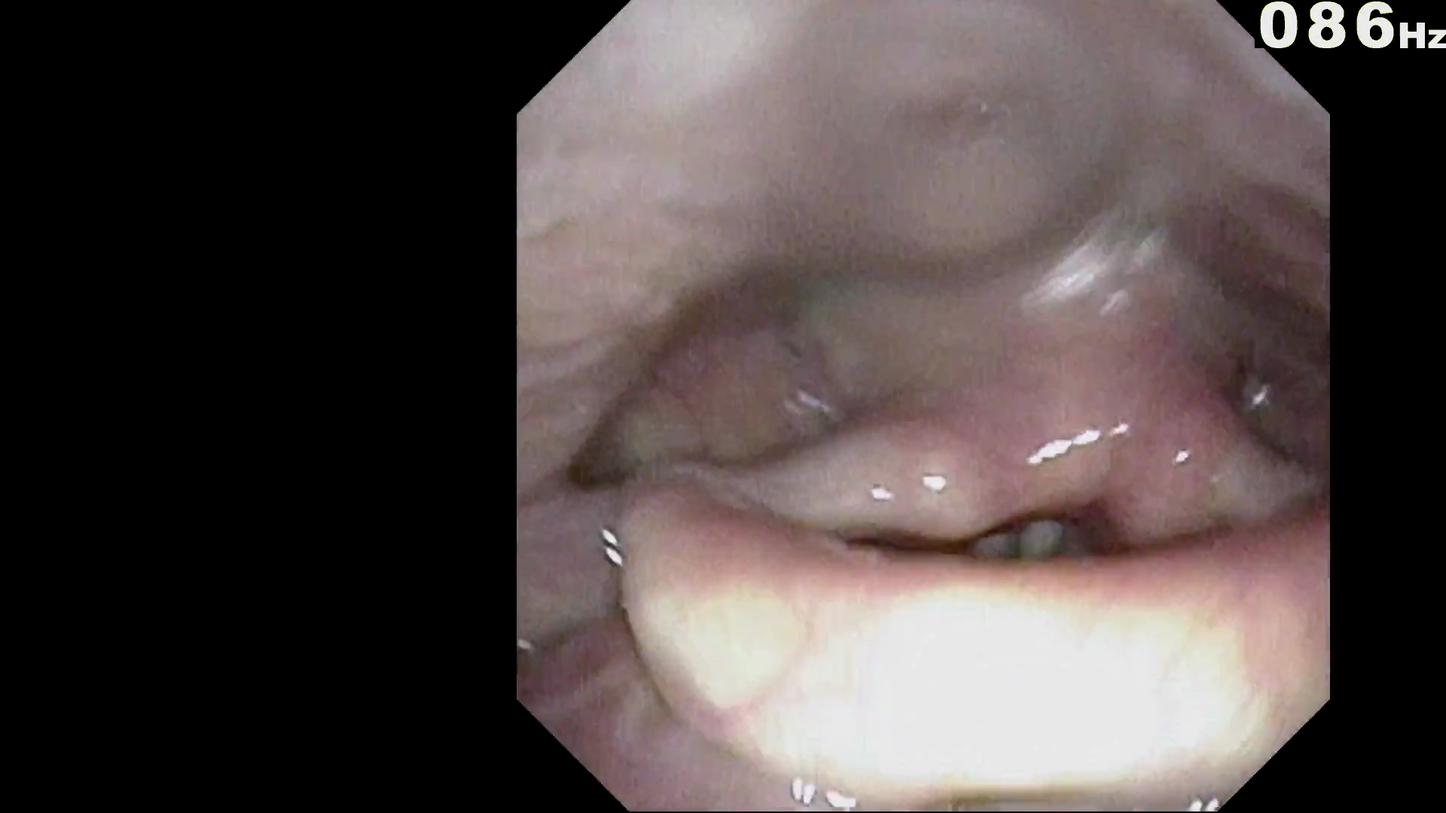epiglottis: (651, 522, 1266, 746)
trachea: (936, 494, 1082, 608)
